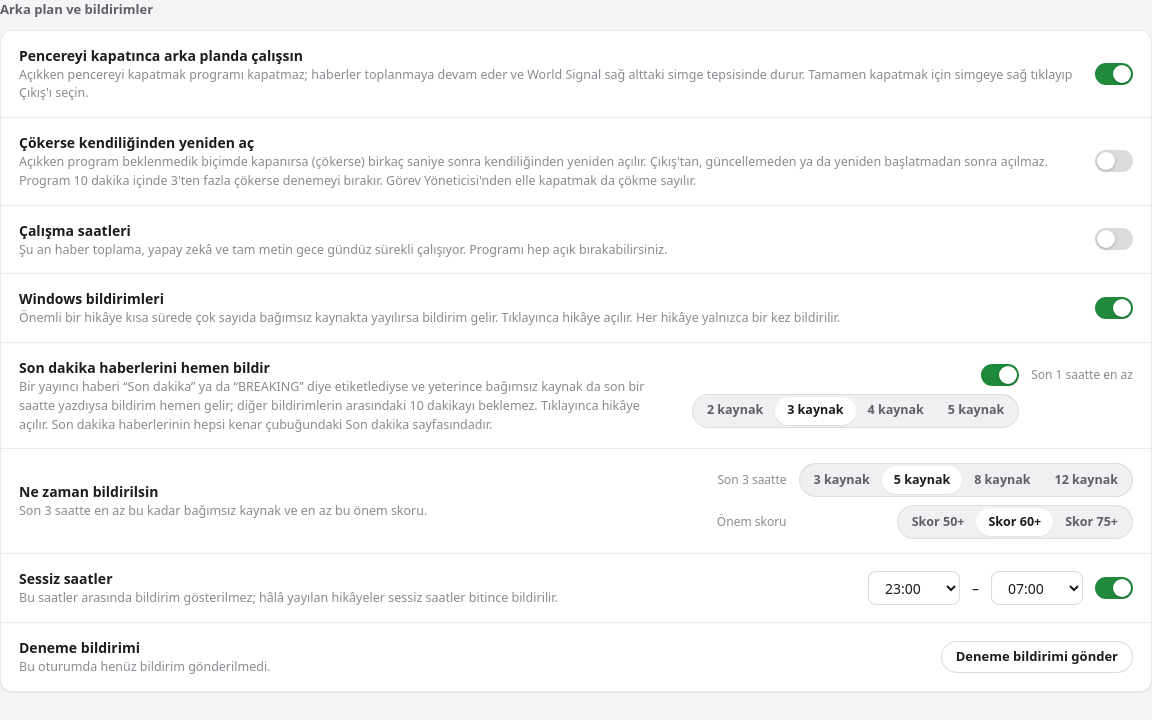
Test: Background and notifications › sends a test notification
Click the button "Deneme bildirimi gönder": x=1037, y=657 [941,641,1133,673]
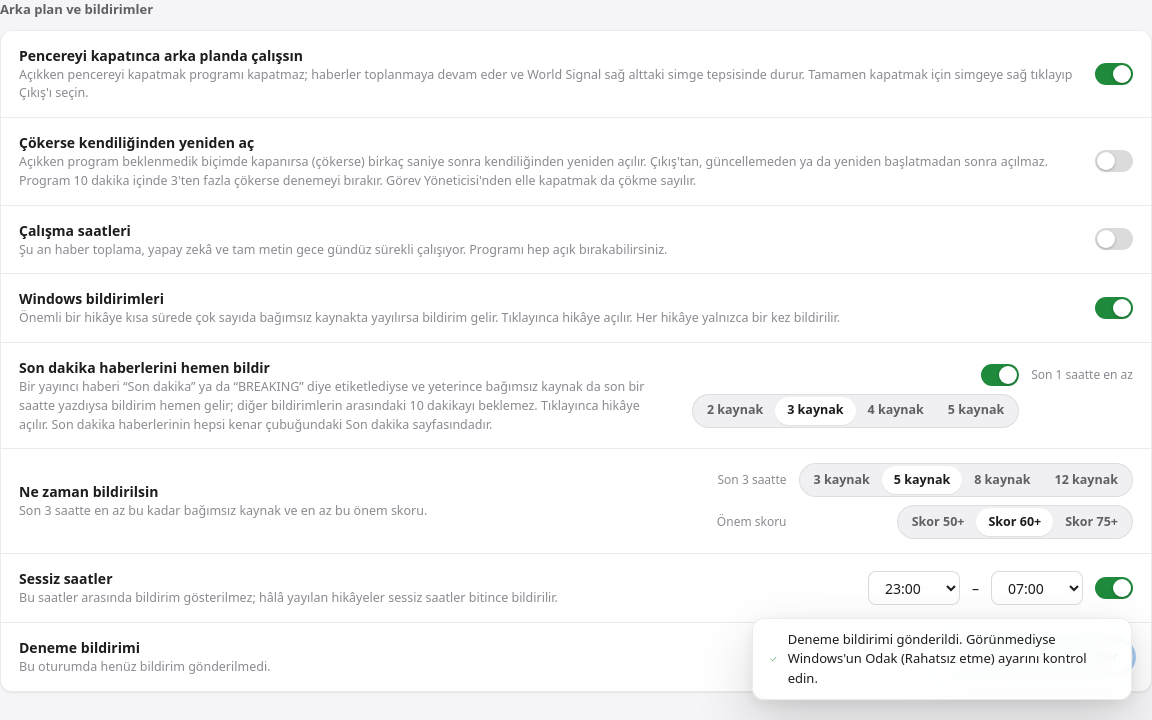
Now the text "Deneme bildirimi gönderildi" is shown, box [788,630,1087,686]
